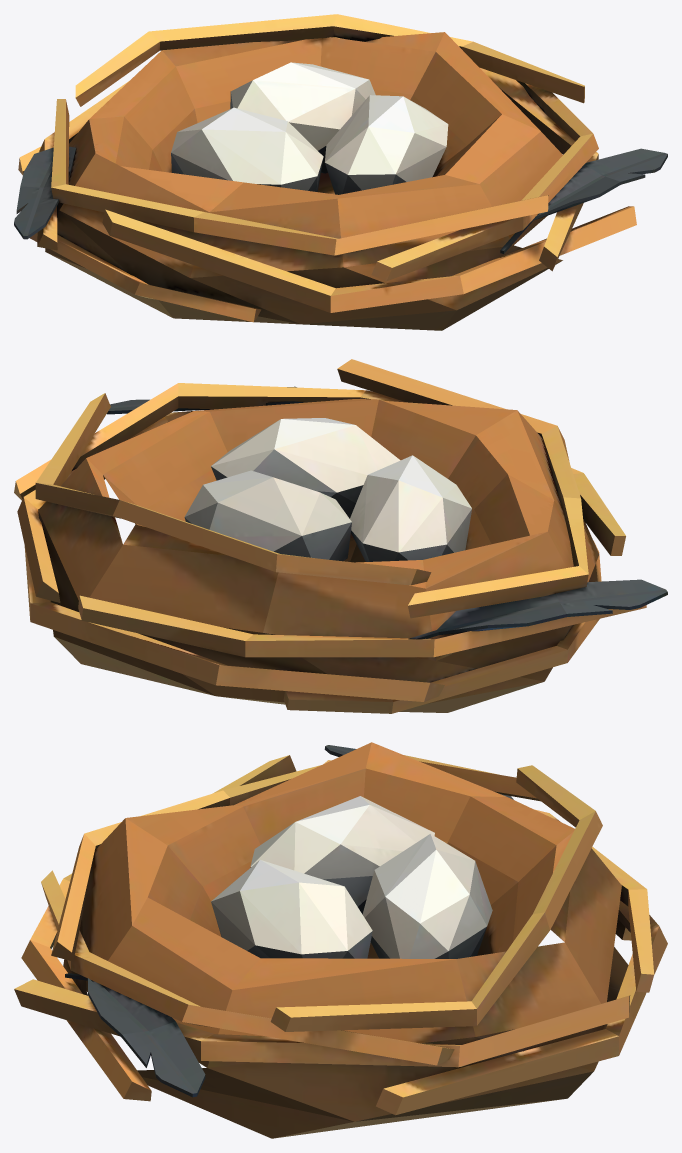
Rendered from nest.glb.
The picture shows the model from 3 angles, top to bottom: view 1: azimuth 30°, elevation 25°; view 2: azimuth 150°, elevation 25°; view 3: azimuth 270°, elevation 25°; orthographic projection. The views are drawn at different scales.
Parts seen in each view (by area): view 1: birds_nest; view 2: birds_nest; view 3: birds_nest.
Part boxes in pixels (x1=…): birds_nest: x1=14, y1=14, x2=667, y2=330; birds_nest: x1=14, y1=359, x2=667, y2=713; birds_nest: x1=14, y1=742, x2=667, y2=1138.
Size of the model in its own units: 0.3 by 0.09 by 0.2522.
Materials: 1 (1 with a texture image).
